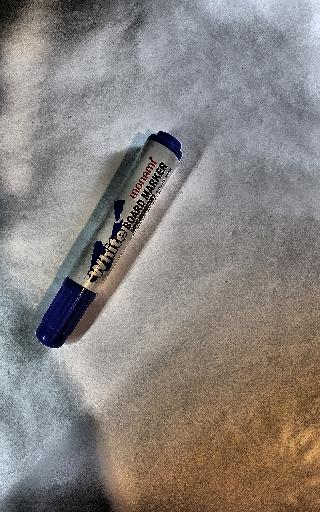marcador azul: (36, 131, 182, 348)
